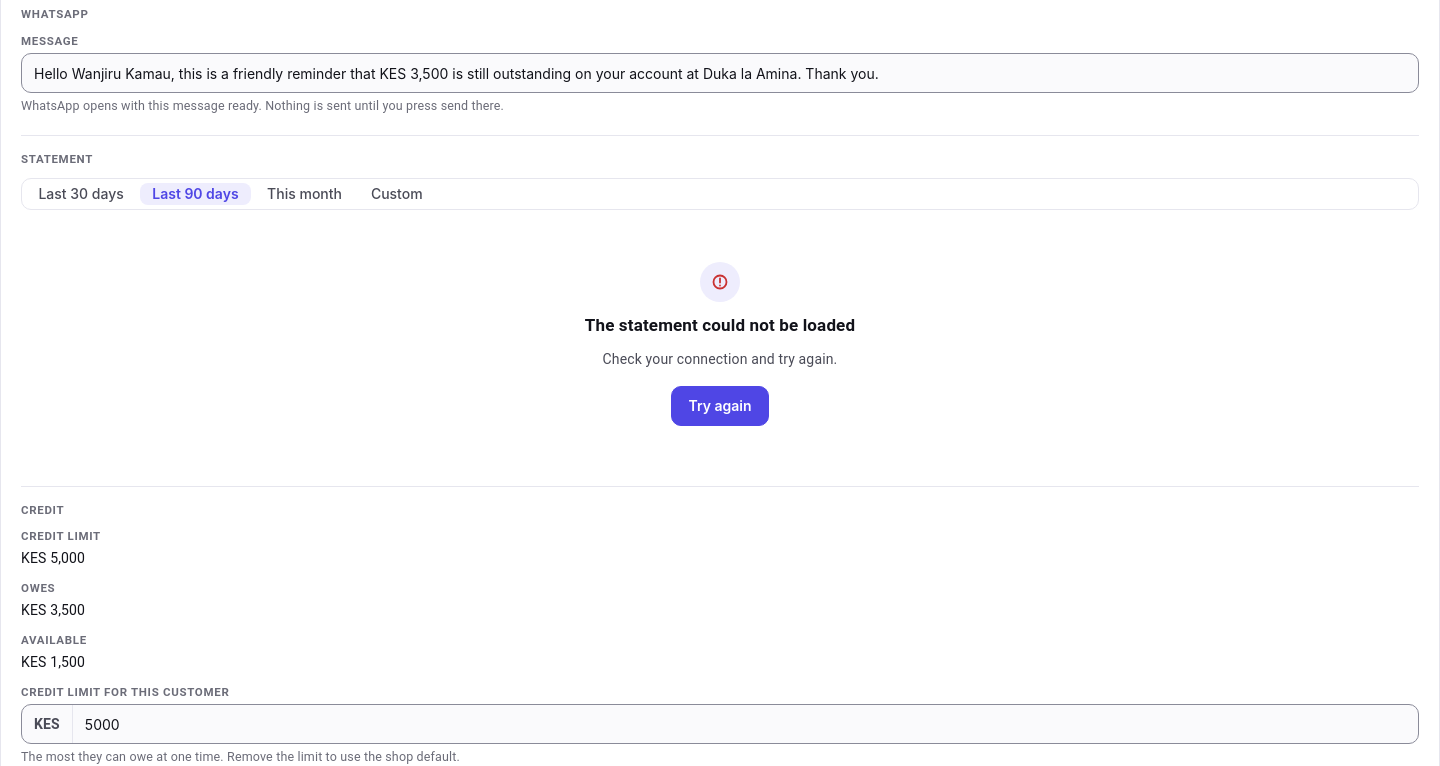
Test case: the statement (AC-28) › a statement that cannot load shows a retry inside the section
(page scrolled)
Click the button "Try again" at [720, 406], box [672, 386, 769, 426]
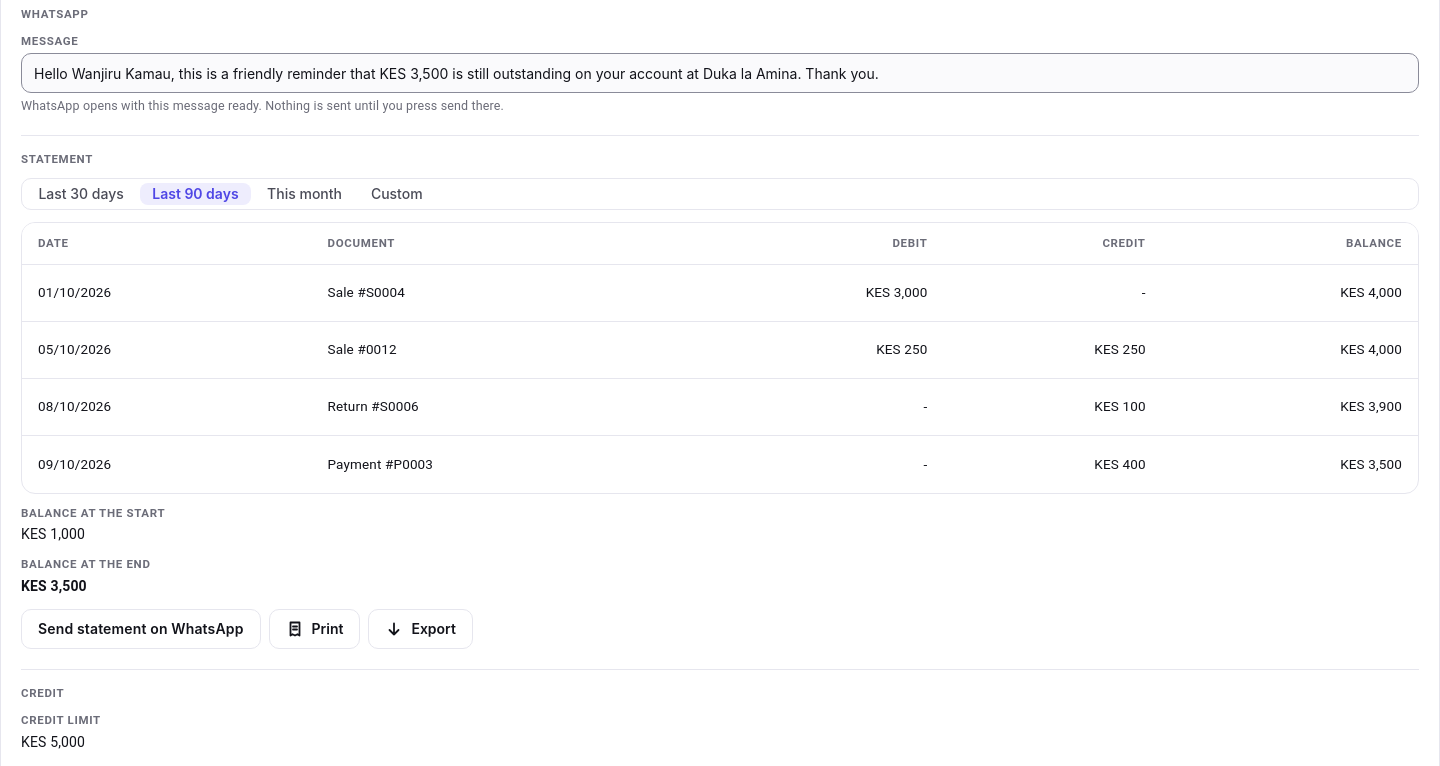
Expected: the table is shown, [22, 223, 1418, 492]
